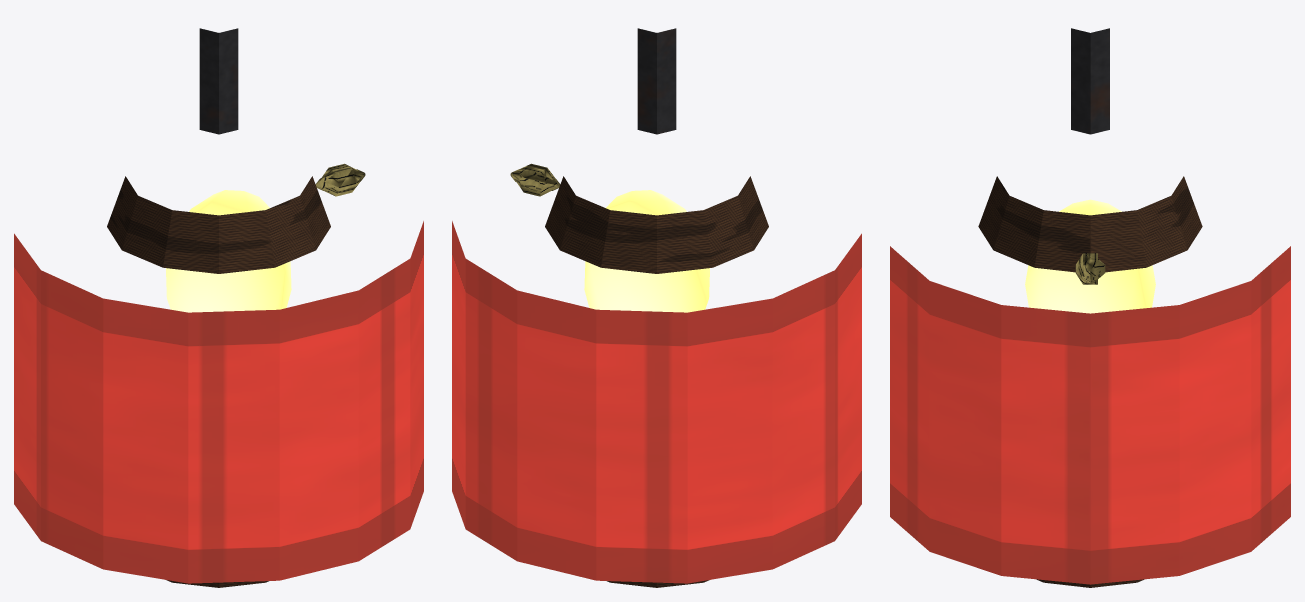
Rendered from hand_lantern.glb.
The picture shows the model from 3 angles, left to right: view 1: azimuth 30°, elevation 25°; view 2: azimuth 150°, elevation 25°; view 3: azimuth 270°, elevation 25°; orthographic projection.
Parts seen in each view (by area): view 1: Body, CapT, Flame, Hook, Handle; view 2: Body, CapT, Flame, Hook, Handle; view 3: Body, CapT, Flame, Hook, Handle.
Boxes of the visible parts, x1,y1,x2,y2 form: Body: (14, 221, 423, 583); CapT: (107, 176, 330, 273); Flame: (166, 190, 291, 312); Hook: (199, 28, 238, 134); Handle: (315, 163, 365, 196); Body: (452, 221, 861, 583); CapT: (545, 176, 768, 273); Flame: (584, 190, 709, 312); Hook: (637, 28, 676, 134); Handle: (510, 163, 560, 196); Body: (890, 246, 1290, 584); CapT: (978, 176, 1202, 272); Flame: (1025, 199, 1155, 313); Hook: (1071, 28, 1109, 134); Handle: (1075, 253, 1105, 284).
Size of the model in its own units: 0.22 by 0.31 by 0.2145.
5 materials, 4 textured.
